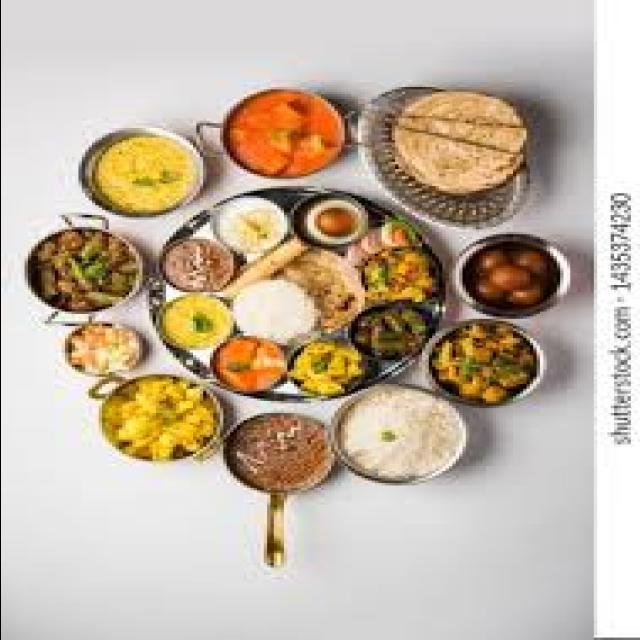raita: (225, 275, 311, 345)
rice: (361, 84, 529, 205), (225, 277, 311, 343)
roti: (368, 87, 531, 205), (234, 237, 352, 323)
sweet: (454, 232, 561, 324), (281, 189, 369, 252)
veg-fry: (225, 88, 343, 186), (206, 329, 292, 405)
